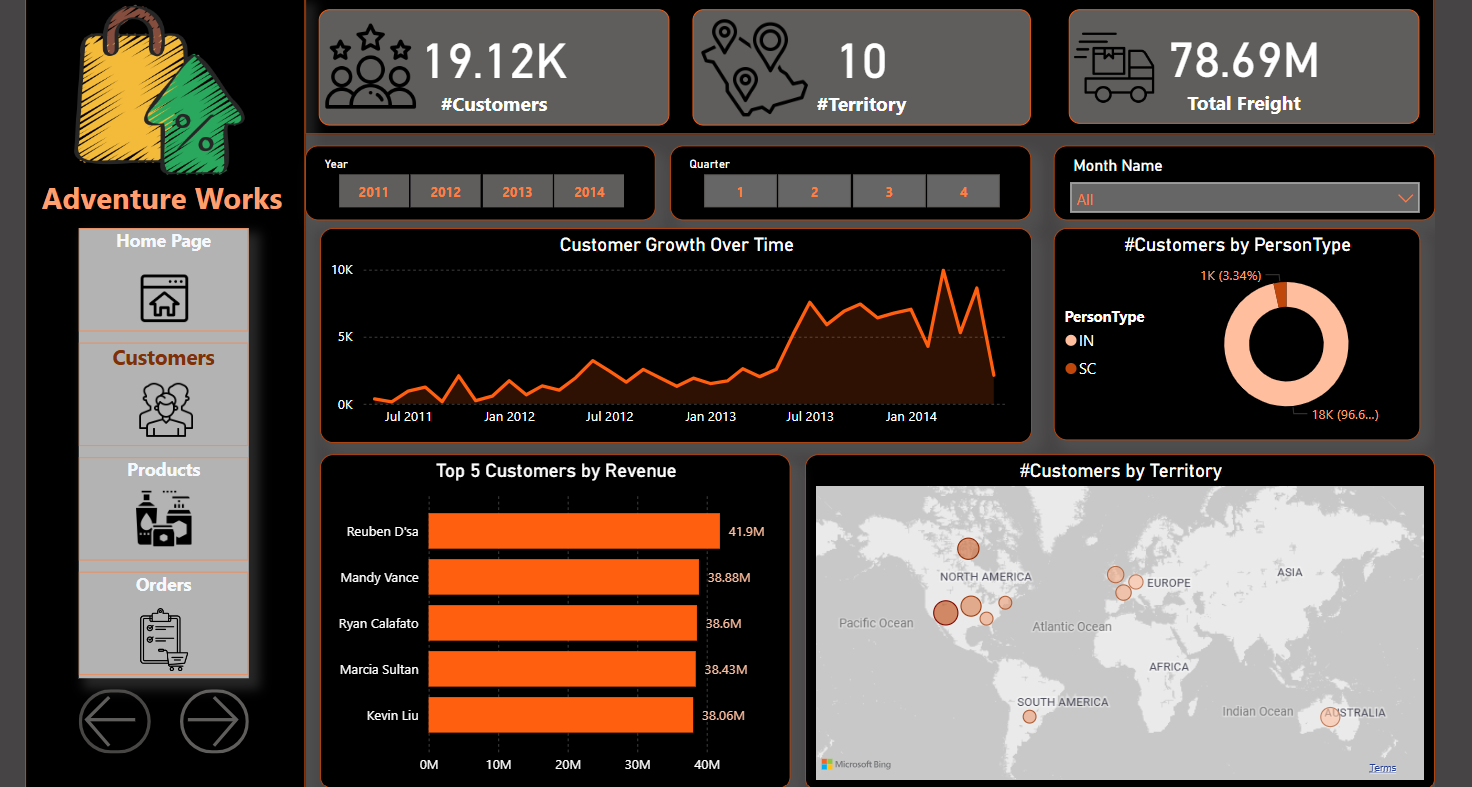

The dashboard page shown, as its layout file describes it:
{"tool":"powerbi","page":{"name":"Customers","canvas":[1280,720],"ordinal":1},"visuals":[{"type":"shape","box":[254.6,0,1025.4,123.8],"z":0},{"type":"pageNavigator","box":[48.7,208.7,154.4,409],"z":0,"group":"g1"},{"type":"shape","box":[0,0,254.6,719.3],"z":1000},{"type":"image","box":[53.6,343.3,149.5,60.1],"z":1000,"group":"g1"},{"type":"card","fields":{"Values":["Dax_Meas.Total Freight"]},"box":[947.5,9.7,318.6,104.3],"z":2000},{"type":"image","box":[51.9,246.1,148.7,53.3],"z":2000,"group":"g1"},{"type":"slicer","title":"Year","fields":{"Values":["Dim_Date.Month Name"]},"box":[933.6,133.6,346.4,68.2],"z":3000},{"type":"image","box":[48.7,442.6,154.4,60.1],"z":3000,"group":"g1"},{"type":"card","fields":{"Values":["CountNonNull(Dim_Territory.TerritoryID)"]},"box":[606.6,9.7,307.5,105.7],"z":4000},{"type":"image","box":[48.7,548.5,154.4,69.3],"z":4000,"group":"g1"},{"type":"slicer","title":"Year","fields":{"Values":["Dim_Date.Year"]},"box":[254.6,133.6,318.6,68.2],"z":5000},{"type":"card","fields":{"Values":["CountNonNull(Dim_Customers.Customer_id)"]},"box":[267.1,9.7,318.6,105.7],"z":6000},{"type":"slicer","title":"Year","fields":{"Values":["Dim_Date.Quarter"]},"box":[585.7,133.6,328.3,68.2],"z":7000},{"type":"textbox","box":[9.8,158.3,234.4,79.8],"z":8000},{"type":"image","box":[0,0,244.2,166.9],"z":9000},{"type":"actionButton","box":[140.5,627.5,62.6,58.4],"z":10000},{"type":"actionButton","box":[48.7,627.5,65.4,58.4],"z":11000},{"type":"group","id":"g1","title":"Group 4","box":[48.7,208.7,154.4,409],"z":12000},{"type":"lineChart","title":"Customer Growth Over Time","fields":{"Y":["CountNonNull(Fact_Orders.Customer_id)"],"Category":["Dim_Date.Date.Variation.Date Hierarchy.Year","Dim_Date.Date.Variation.Date Hierarchy.Quarter","Dim_Date.Date.Variation.Date Hierarchy.Month"]},"box":[267.5,208.8,646.2,195],"z":13000},{"type":"donutChart","fields":{"Category":["Dim_Customers.PersonType"],"Y":["Dax_Meas.#Customers"]},"box":[933.8,208.8,332.5,192.5],"z":14000},{"type":"map","title":"#Customers by Territory ","fields":{"Size":["CountNonNull(Fact_Orders.Customer_id)"],"Category":["Dim_Territory.Territory"]},"box":[708.1,414.4,572.2,306],"z":15000},{"type":"barChart","title":"Top 5 Customers by Revenue","fields":{"Category":["Dim_Customers.Full_name"],"Y":["Dax_Meas.Total Sales"]},"box":[267.5,413.8,427.5,305],"z":16000},{"type":"image","box":[947.5,12.5,82.5,101.2],"z":17000},{"type":"image","box":[606.2,10,112.5,106.2],"z":18000},{"type":"image","box":[267.5,10,92.5,103.8],"z":19000}]}

Visuals, with their boxes on the page's 1280x720 design canvas (x1, y1, x2, y2). These are canvas units, not pixel positions in the 1472x787 screenshot, which may show the page scaled, cropped or inside an application window:
shape: locate(255, 0, 1280, 124)
pageNavigator: locate(49, 209, 203, 618)
shape: locate(0, 0, 255, 719)
image: locate(54, 343, 203, 403)
card - Dax_Meas.Total Freight: locate(948, 10, 1266, 114)
image: locate(52, 246, 201, 299)
"Year" slicer: locate(934, 134, 1280, 202)
image: locate(49, 443, 203, 503)
card - CountNonNull(Dim_Territory.TerritoryID): locate(607, 10, 914, 115)
image: locate(49, 548, 203, 618)
"Year" slicer: locate(255, 134, 573, 202)
card - CountNonNull(Dim_Customers.Customer_id): locate(267, 10, 586, 115)
"Year" slicer: locate(586, 134, 914, 202)
textbox: locate(10, 158, 244, 238)
image: locate(0, 0, 244, 167)
actionButton: locate(140, 628, 203, 686)
actionButton: locate(49, 628, 114, 686)
"Group 4" group: locate(49, 209, 203, 618)
"Customer Growth Over Time" lineChart: locate(268, 209, 914, 404)
donutChart - Dim_Customers.PersonType x Dax_Meas.#Customers: locate(934, 209, 1266, 401)
"#Customers by Territory " map: locate(708, 414, 1280, 720)
"Top 5 Customers by Revenue" barChart: locate(268, 414, 695, 719)
image: locate(948, 12, 1030, 114)
image: locate(606, 10, 719, 116)
image: locate(268, 10, 360, 114)
